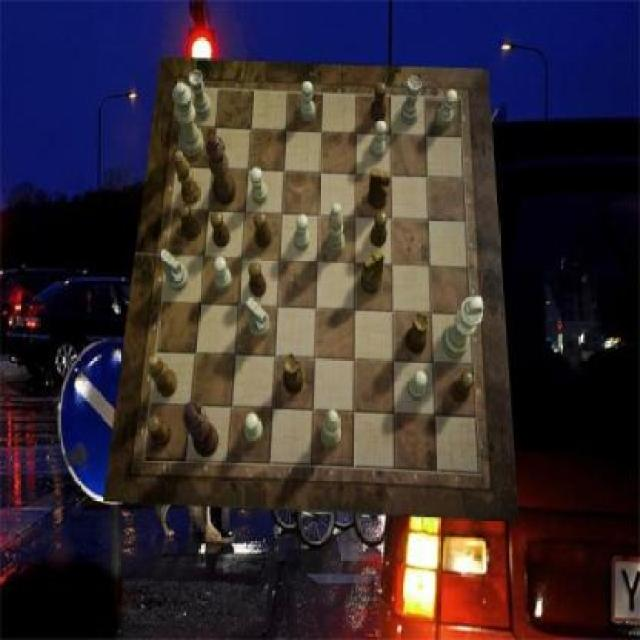bishop: (174, 150, 201, 204), (148, 355, 178, 398)
black-bishop: (185, 402, 220, 456)
black-king: (362, 249, 386, 295), (368, 169, 390, 209)
black-knight: (178, 204, 200, 240), (148, 417, 172, 449), (451, 372, 474, 405), (211, 212, 231, 248), (249, 262, 267, 298), (370, 212, 388, 248), (371, 83, 387, 123), (254, 212, 271, 248)
black-pawn: (206, 136, 236, 207)
black-queen: (406, 314, 431, 355), (284, 354, 304, 395)
black-rook: (328, 203, 345, 257), (320, 409, 341, 448)
white-bishop: (441, 295, 484, 358)
white-king: (158, 249, 188, 292), (246, 297, 271, 338)
white-knight: (436, 89, 456, 128), (369, 120, 387, 160), (250, 166, 268, 204), (300, 82, 316, 122), (408, 371, 428, 402), (244, 414, 264, 443), (214, 257, 231, 291), (294, 216, 310, 252)
white-pawn: (173, 83, 204, 158)
white-queen: (189, 71, 213, 120), (400, 77, 422, 126)
